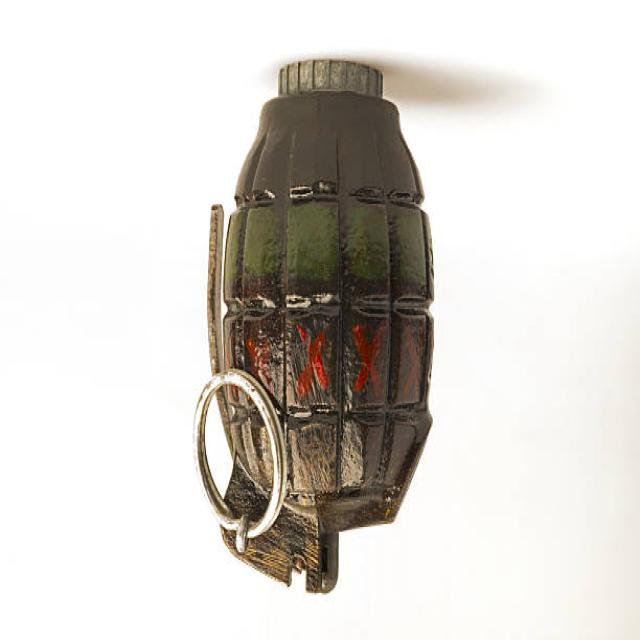grenade: (192, 52, 450, 603)
